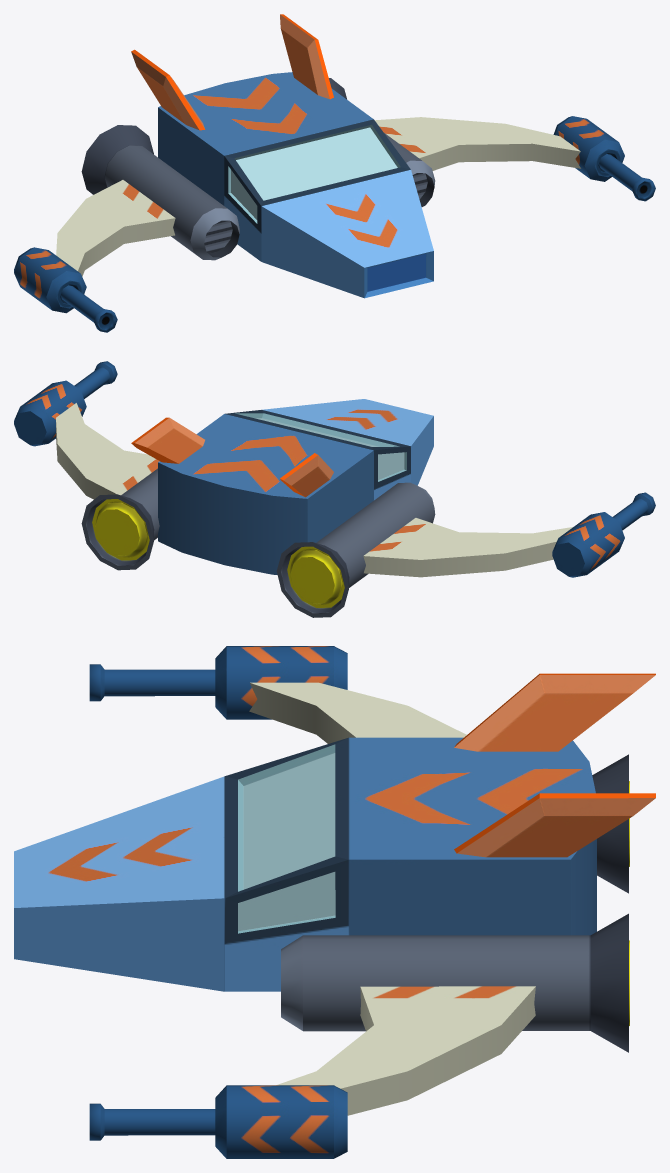
The model's file is BlueBull.fbx.
3 views of the same model, one above another, from view 1: azimuth 30°, elevation 25°; view 2: azimuth 150°, elevation 25°; view 3: azimuth 270°, elevation 25° (orthographic). The views are drawn at different scales.
Parts seen in each view (by area): view 1: Model; view 2: Model; view 3: Model.
Part boxes in pixels (bbox=[...]): Model: bbox=[14, 14, 655, 332]; Model: bbox=[14, 361, 655, 617]; Model: bbox=[14, 646, 655, 1158].
Size of the model in its own units: 860 by 198 by 494.
2 materials, 2 textured.
